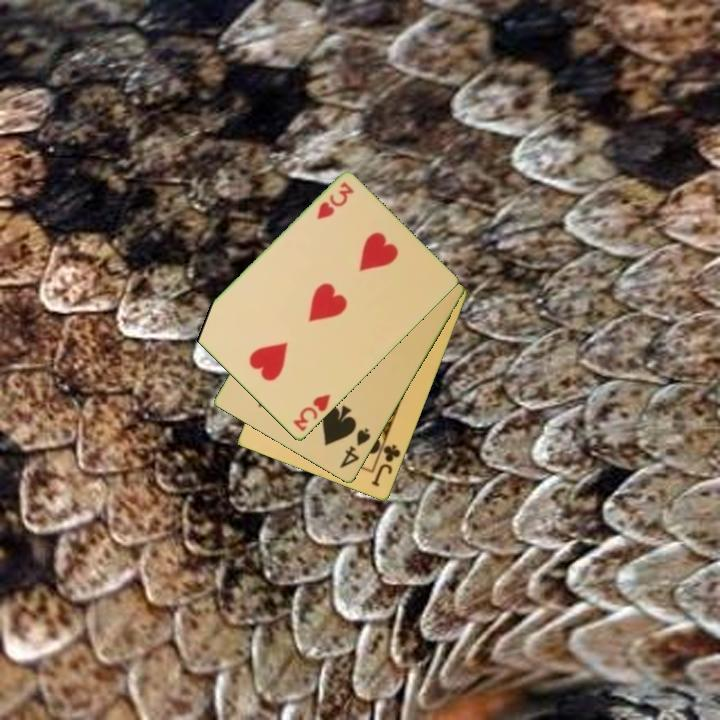3h: (313, 179, 357, 223), (290, 390, 333, 435)
4s: (336, 425, 374, 472)
Jc: (368, 441, 404, 490)
